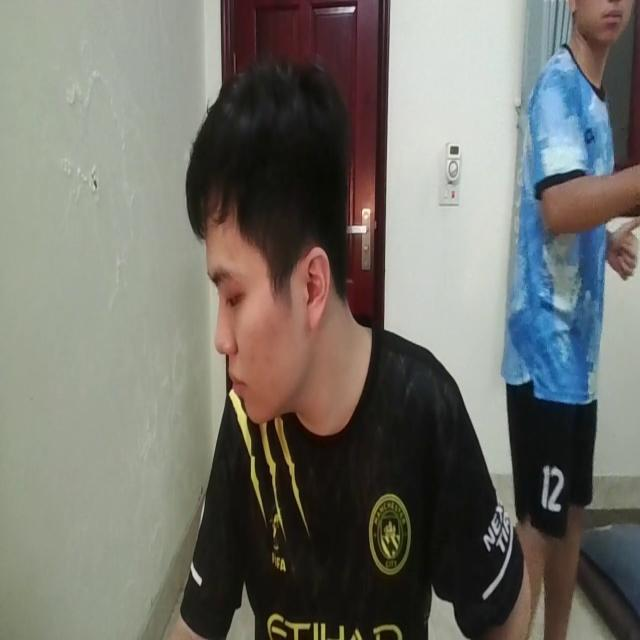extra_person: (496, 0, 639, 620)
student: (138, 61, 528, 640)
